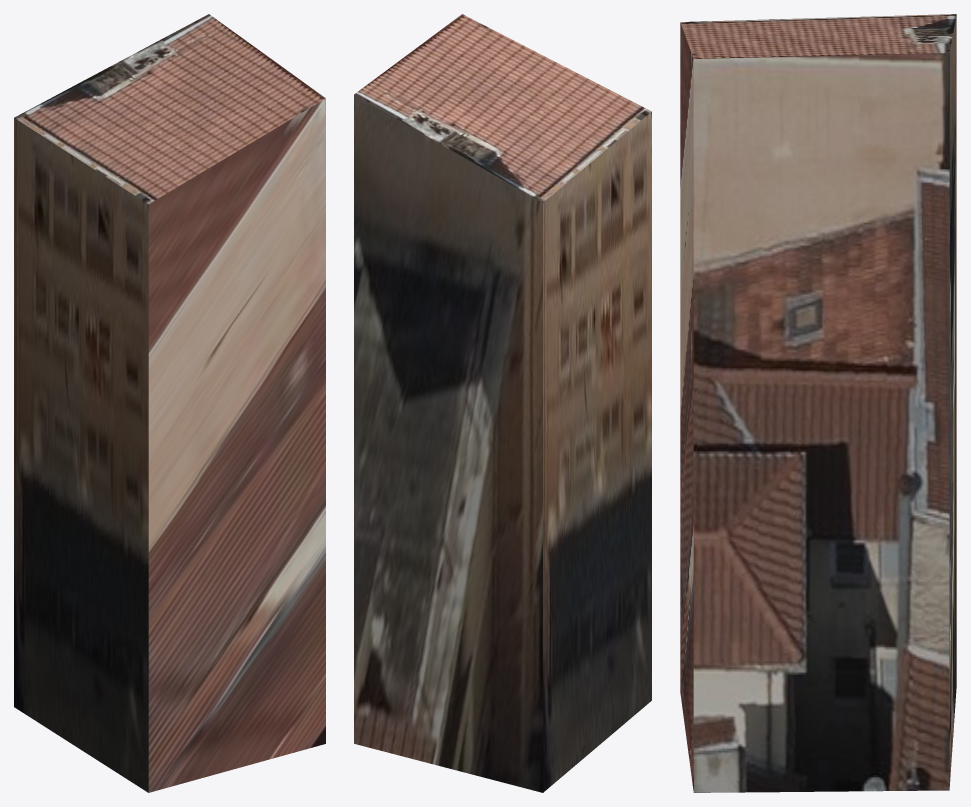
3 renders of one model, left to right at view 1: azimuth 30°, elevation 25°; view 2: azimuth 150°, elevation 25°; view 3: azimuth 270°, elevation 25°, orthographic. The views are drawn at different scales.
Parts seen in each view (by area): view 1: Z_UP; view 2: Z_UP; view 3: Z_UP.
Boxes of the visible parts, bbox=[...] form: Z_UP: bbox=[14, 14, 325, 792]; Z_UP: bbox=[354, 14, 651, 792]; Z_UP: bbox=[680, 14, 956, 792].
Bounding box in the file's own units: 6.75 × 21.3 × 7.24.
Materials: 2 (1 with a texture image).
